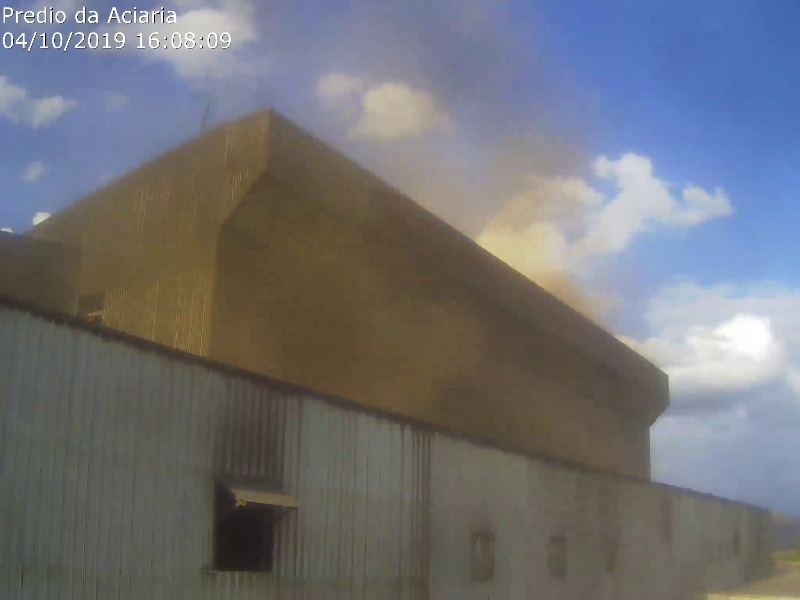pessimo: (208, 100, 491, 404)
ruim: (491, 122, 627, 336), (271, 7, 536, 98)
